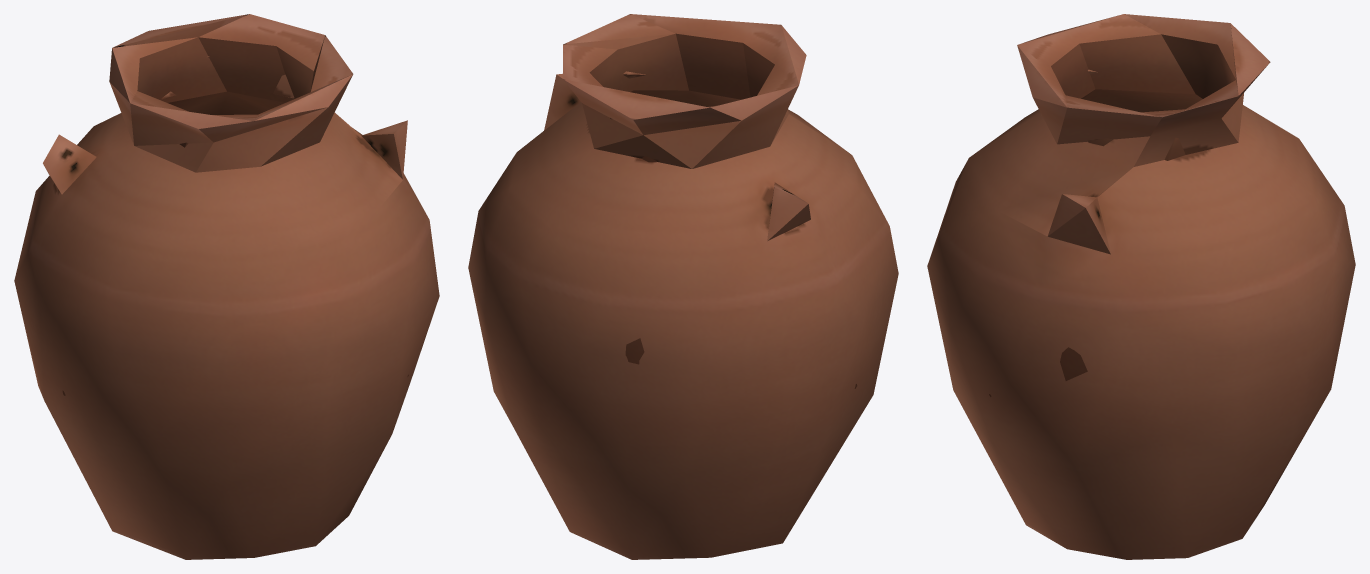
Rendered from jar_lod0.glb.
3 renders of one model, left to right at view 1: azimuth 30°, elevation 25°; view 2: azimuth 150°, elevation 25°; view 3: azimuth 270°, elevation 25°, orthographic.
Parts seen in each view (by area): view 1: low; view 2: low; view 3: low.
Part boxes in pixels (x1,y1,x2,y2): low: [14, 14, 439, 559]; low: [468, 14, 898, 559]; low: [927, 14, 1355, 559].
Bounding box in the file's own units: 0.5017 × 0.5939 × 0.5096.
Materials: 1 (1 with a texture image).
